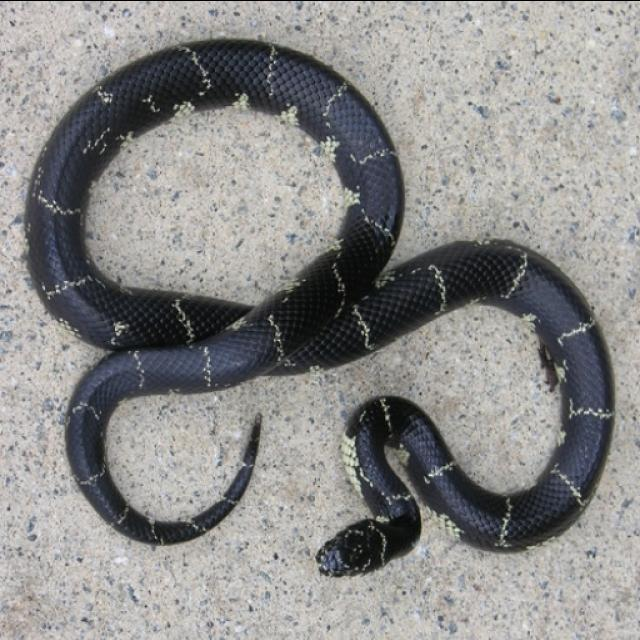snake: (24, 17, 626, 590)
